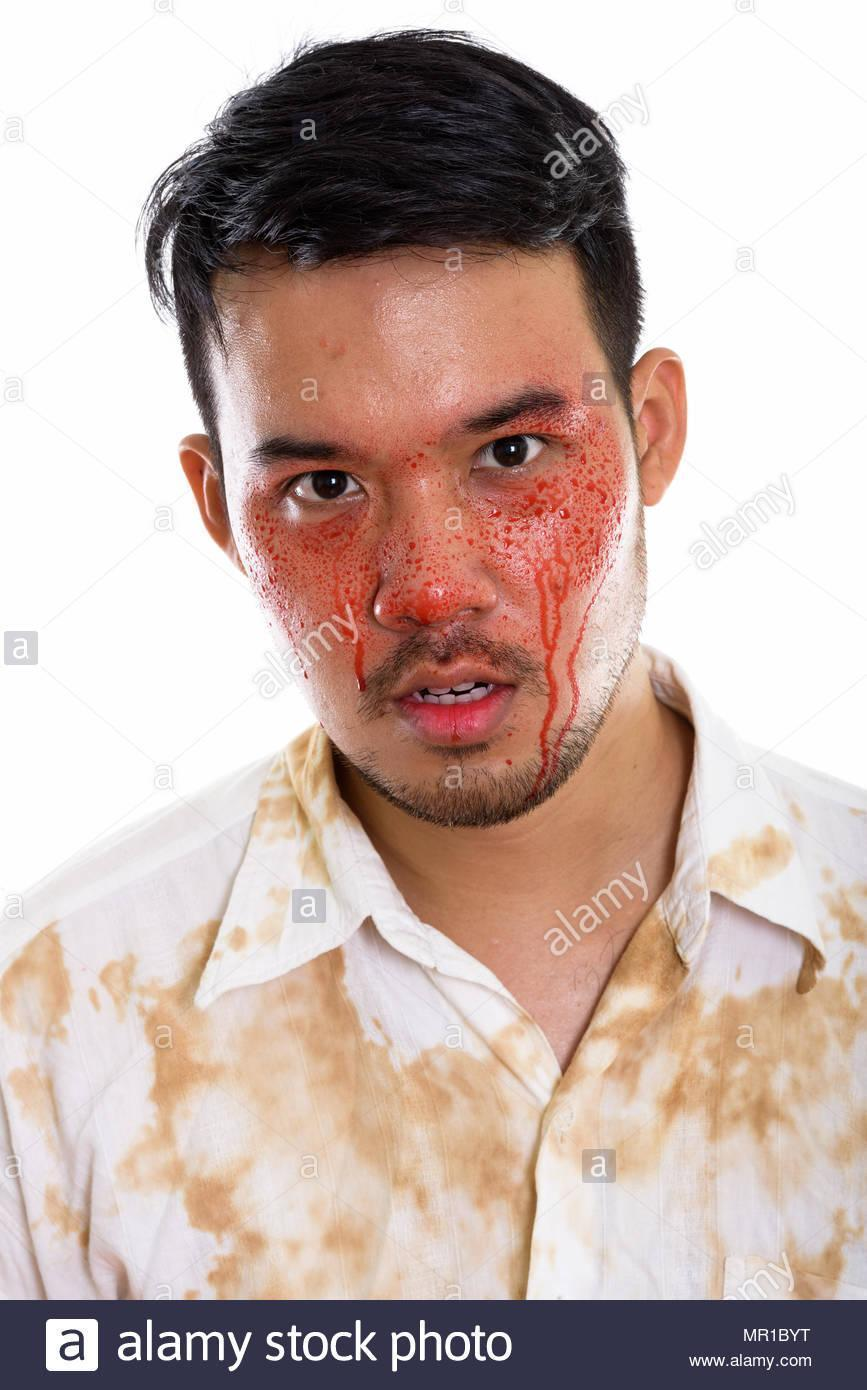Fire: (232, 397, 645, 781)
